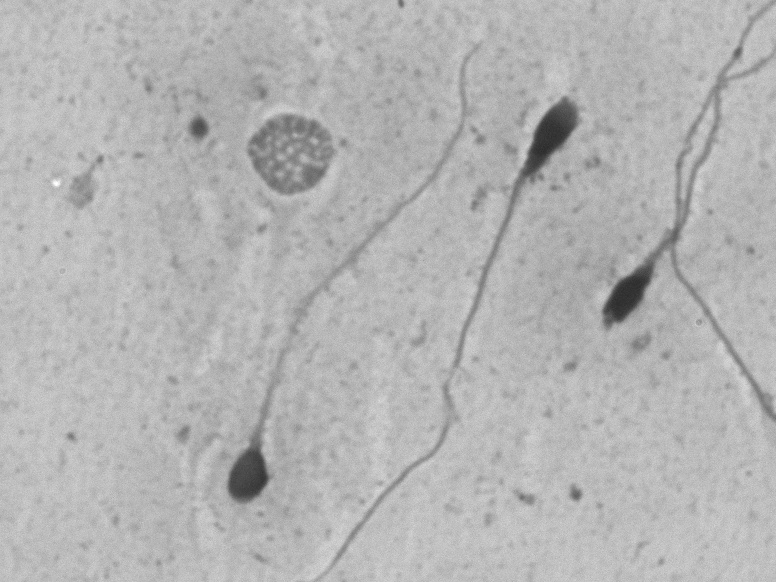Abnormal: (337, 70, 612, 573), (589, 85, 718, 368)
Normal: (200, 21, 517, 544)
